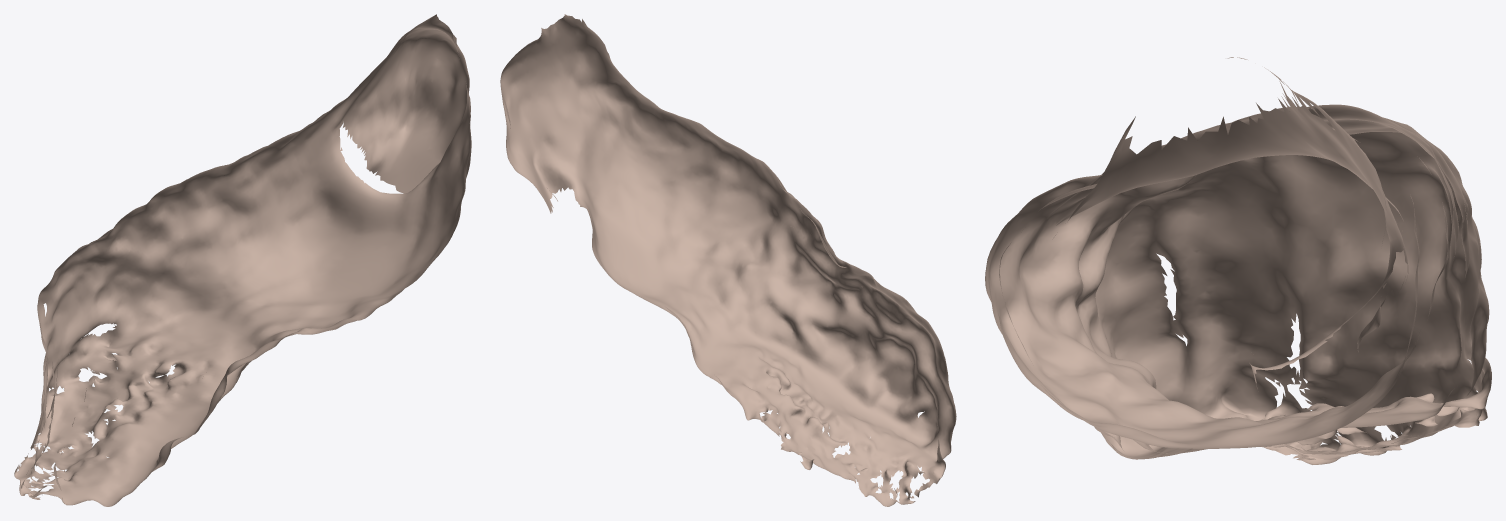
The model's file is vrcaps_stomach_5_gt.glb.
3 renders of one model, left to right at view 1: azimuth 30°, elevation 25°; view 2: azimuth 150°, elevation 25°; view 3: azimuth 270°, elevation 25°, orthographic. The views are drawn at different scales.
Size of the model in its own units: 42.08 by 35.97 by 21.65.
